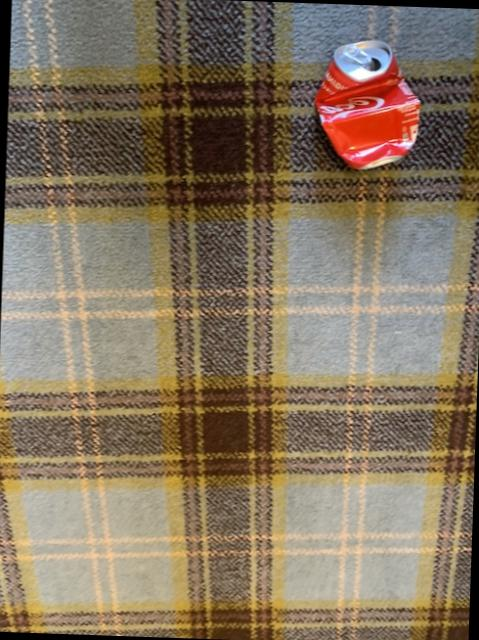metal: (316, 39, 420, 167)
